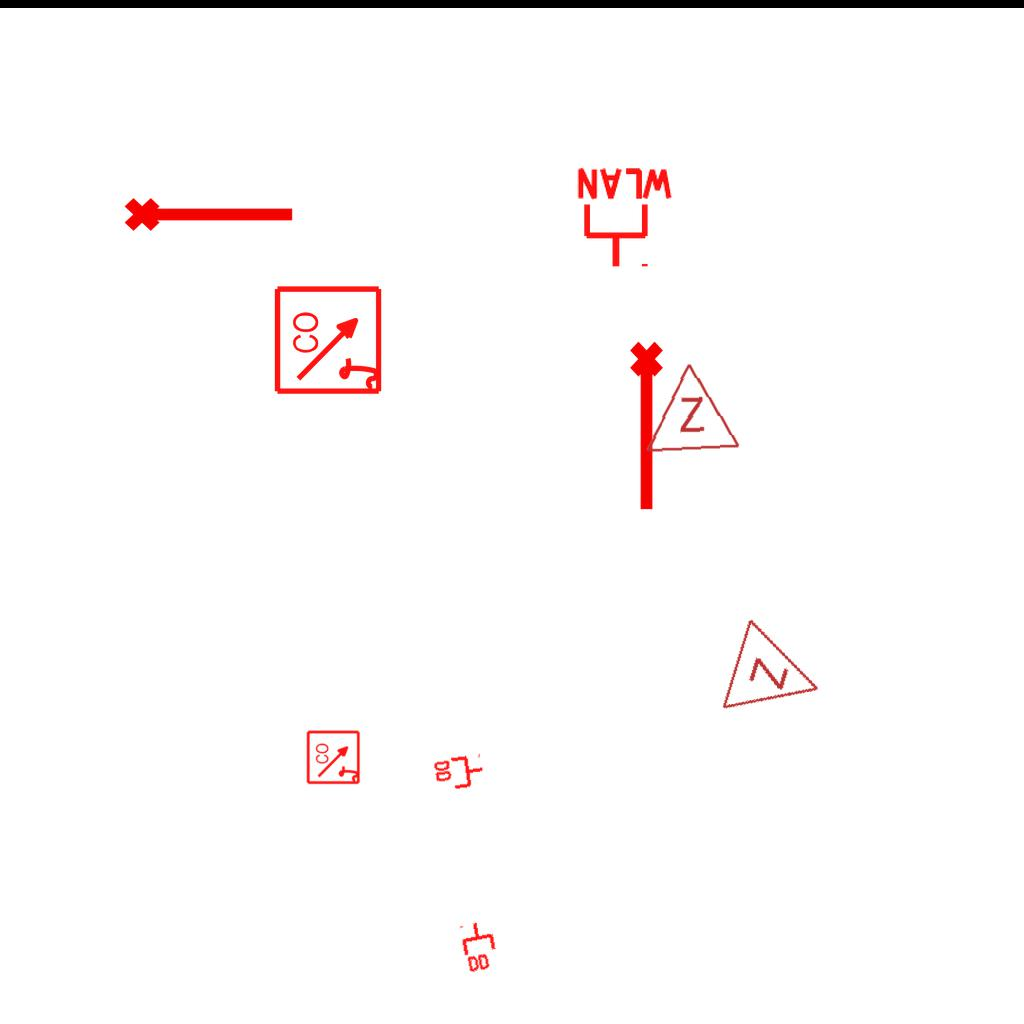ASR_Ansaugoeffnung: (626, 339, 672, 515), (122, 189, 298, 235)
Datenanschluss_zweifach: (458, 918, 502, 975), (431, 753, 487, 794)
ROA_Rauchmelder_optisch_mit_Signalgeber_(Sockelsirene): (273, 283, 386, 396), (306, 729, 362, 785)
WLAN: (573, 166, 677, 271)
Zimmersignalleuchte: (714, 613, 840, 737), (638, 354, 742, 460)
